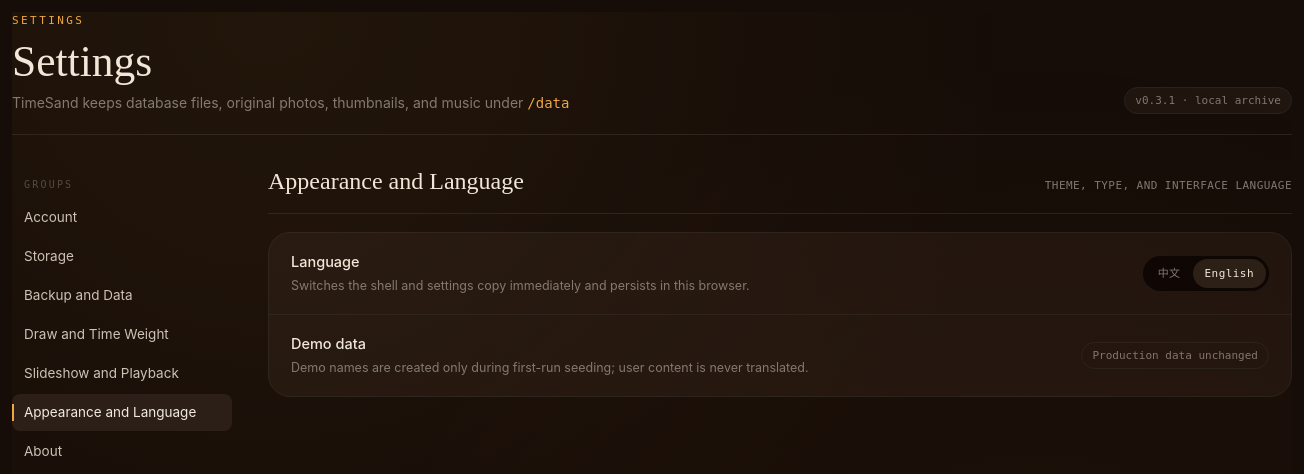
it: settingsPage › persists language changes from the settings segmented control
Click the button with test id "settings-locale-zh-CN". click: (1169, 273)
box: [1146,259,1193,288]
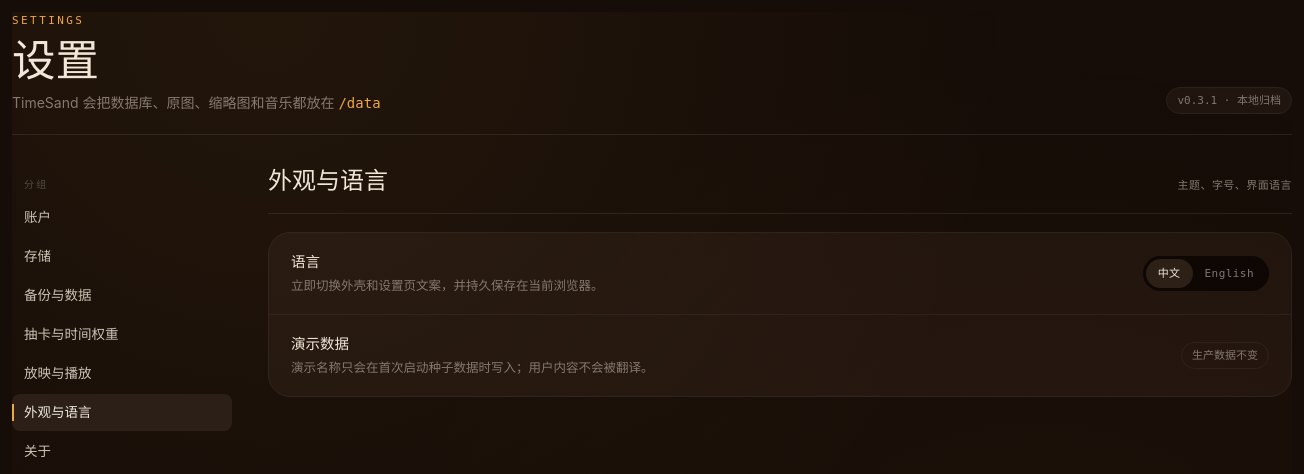
Result: the text "设置" is shown at [12,37,99,85]
